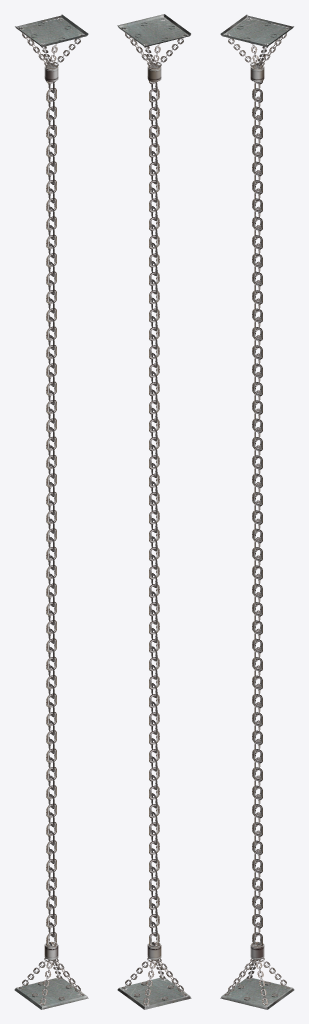
Rendered from chain_balcony.fbx.
3 renders of one model, left to right at view 1: azimuth 30°, elevation 25°; view 2: azimuth 210°, elevation 25°; view 3: azimuth 330°, elevation 25°, orthographic.
Parts seen in each view (by area): view 1: mesh_0; view 2: mesh_0; view 3: mesh_0.
Boxes of the visible parts, <box> form: mesh_0: <box>14,14,88,1009</box>; mesh_0: <box>117,14,191,1009</box>; mesh_0: <box>220,14,294,1009</box>.
Bounding box in the file's own units: 40 × 780 × 40.
Materials: 1 (1 with a texture image).
